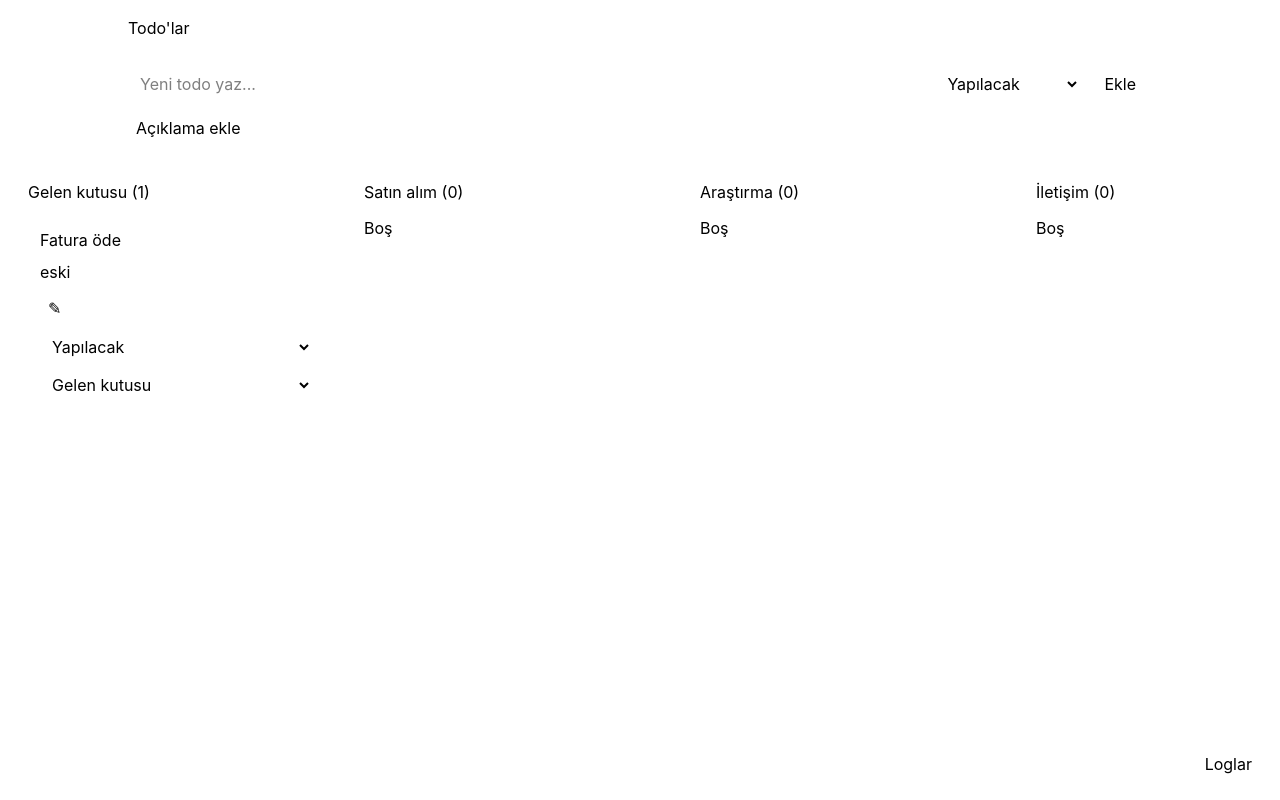
card description › removes the description when it is saved empty
This screenshot has width=1280, height=800.
expect the heading "Fatura öde" is shown: met, box [40,230,121,250]
Click the button named "Açıklamayı düzenle" at (55, 308), box [40,292,69,324]
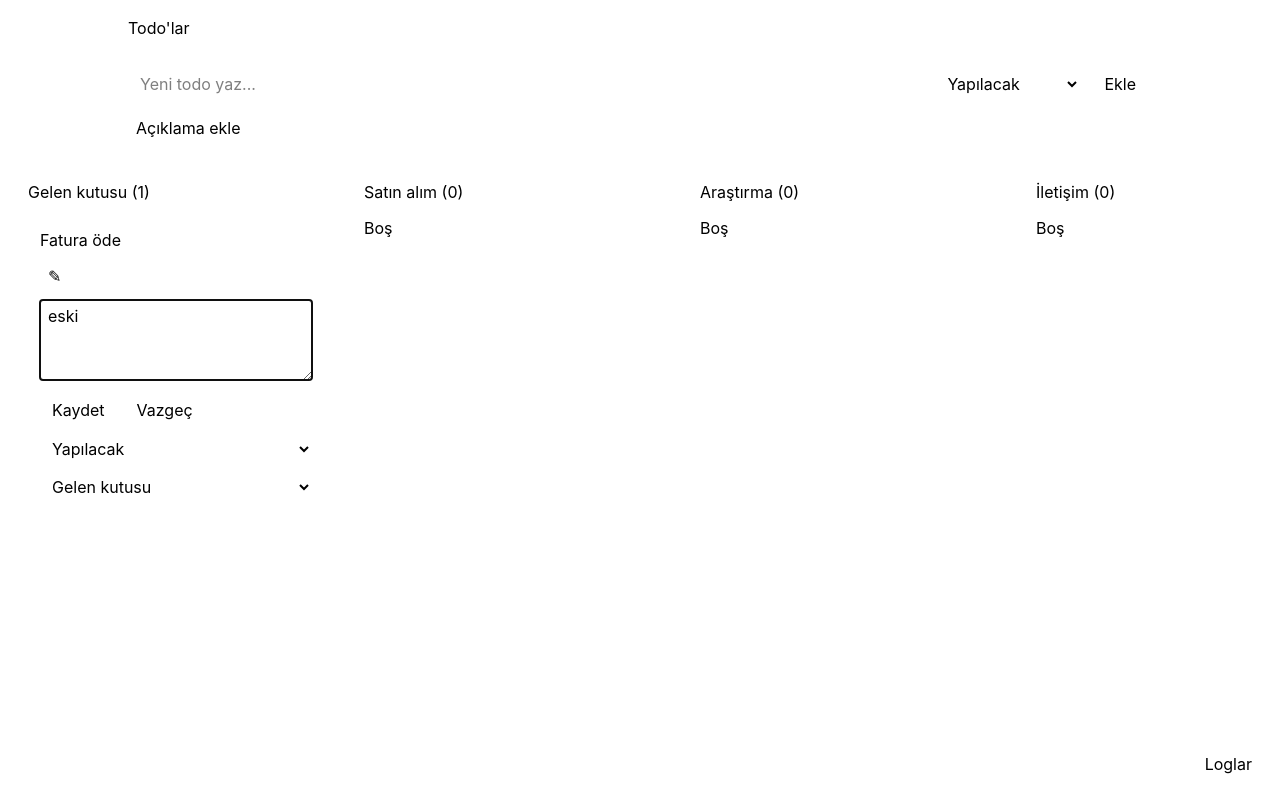
Clear the text box named "Fatura öde açıklaması" at (176, 340), box [40,300,312,380]
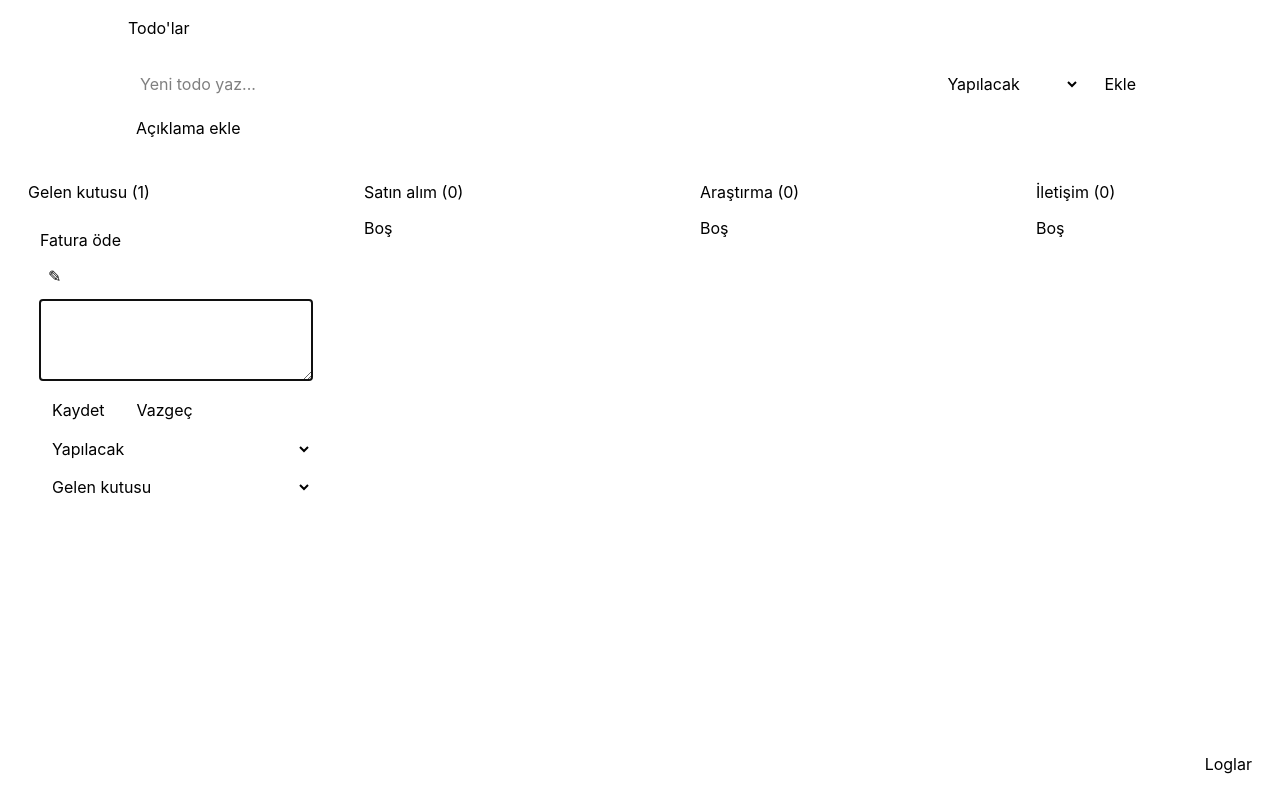
Click the button "Kaydet" at (78, 410), box [40,394,116,426]
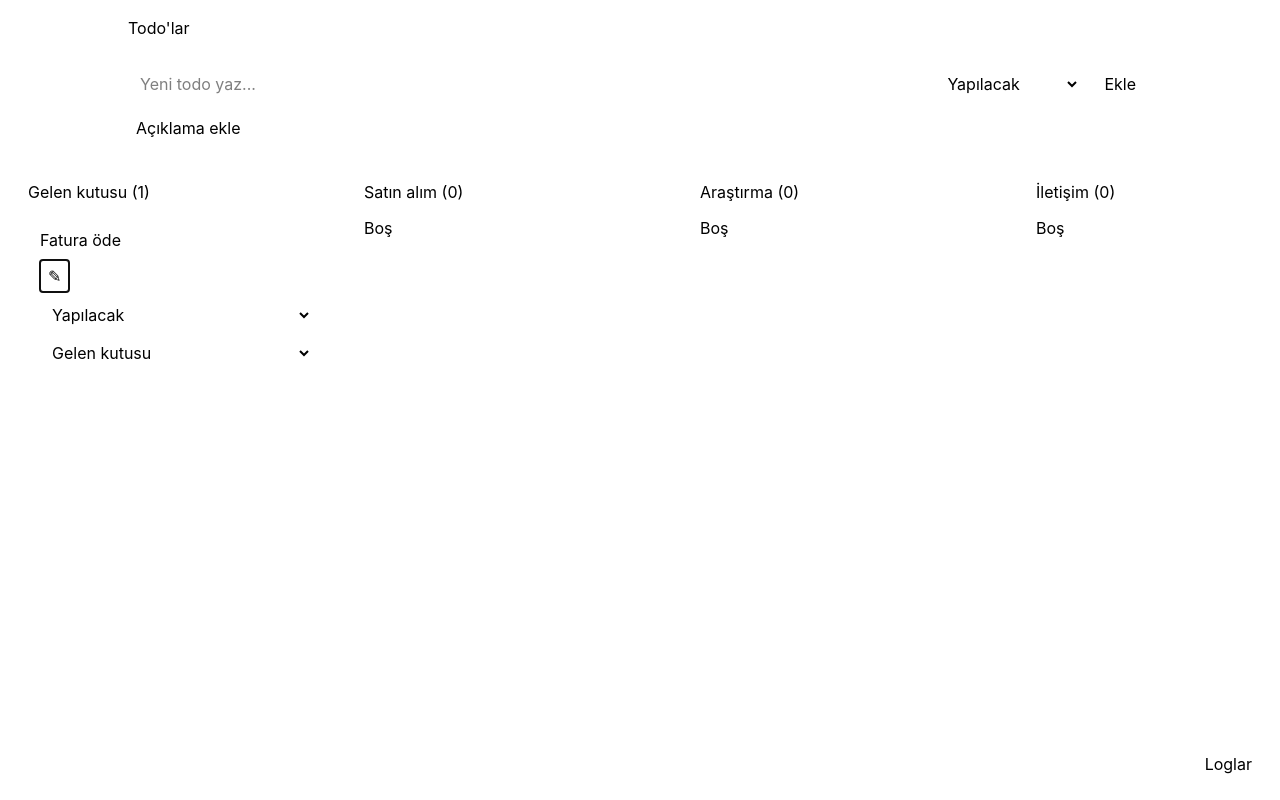
expect the form with class "description-editor" is gone: met
